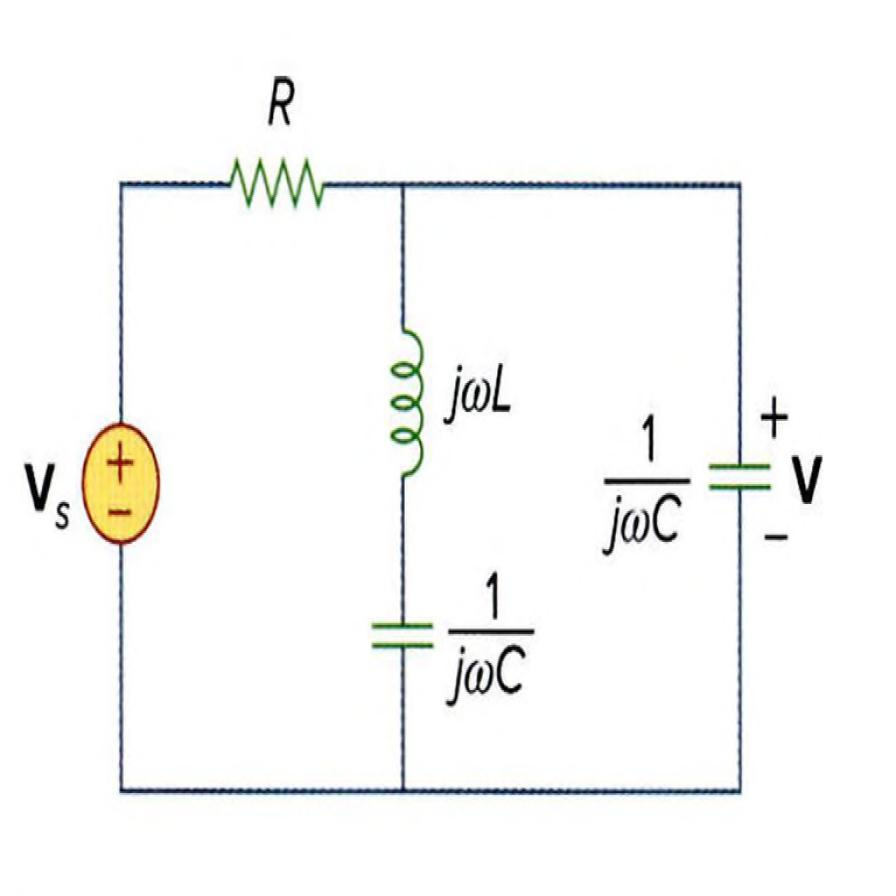C2: (698, 429, 780, 520), (360, 584, 438, 678)
L2: (383, 300, 431, 511)
R1: (203, 145, 342, 224)
V1: (75, 411, 168, 554)
